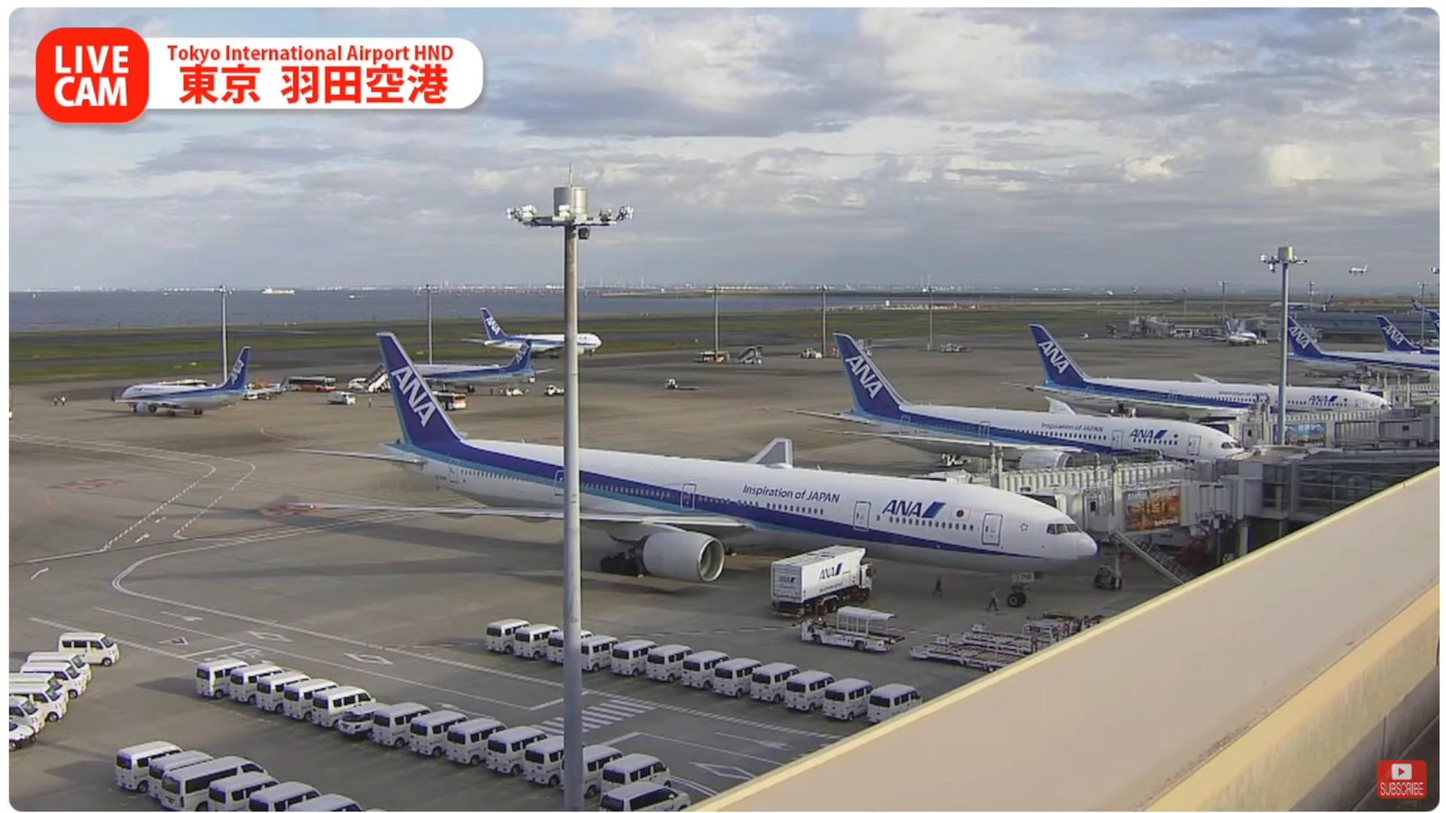Aerobridge: (937, 438, 1217, 490), (1025, 480, 1229, 535)
Airplane: (280, 333, 1099, 615)
Catering: (767, 548, 874, 620)
JCPL: (908, 637, 1025, 670), (960, 626, 1064, 652)
Skyloader: (803, 606, 908, 654)
Window: (1286, 455, 1435, 523)
